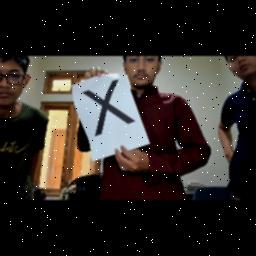x: (80, 76, 138, 136)
